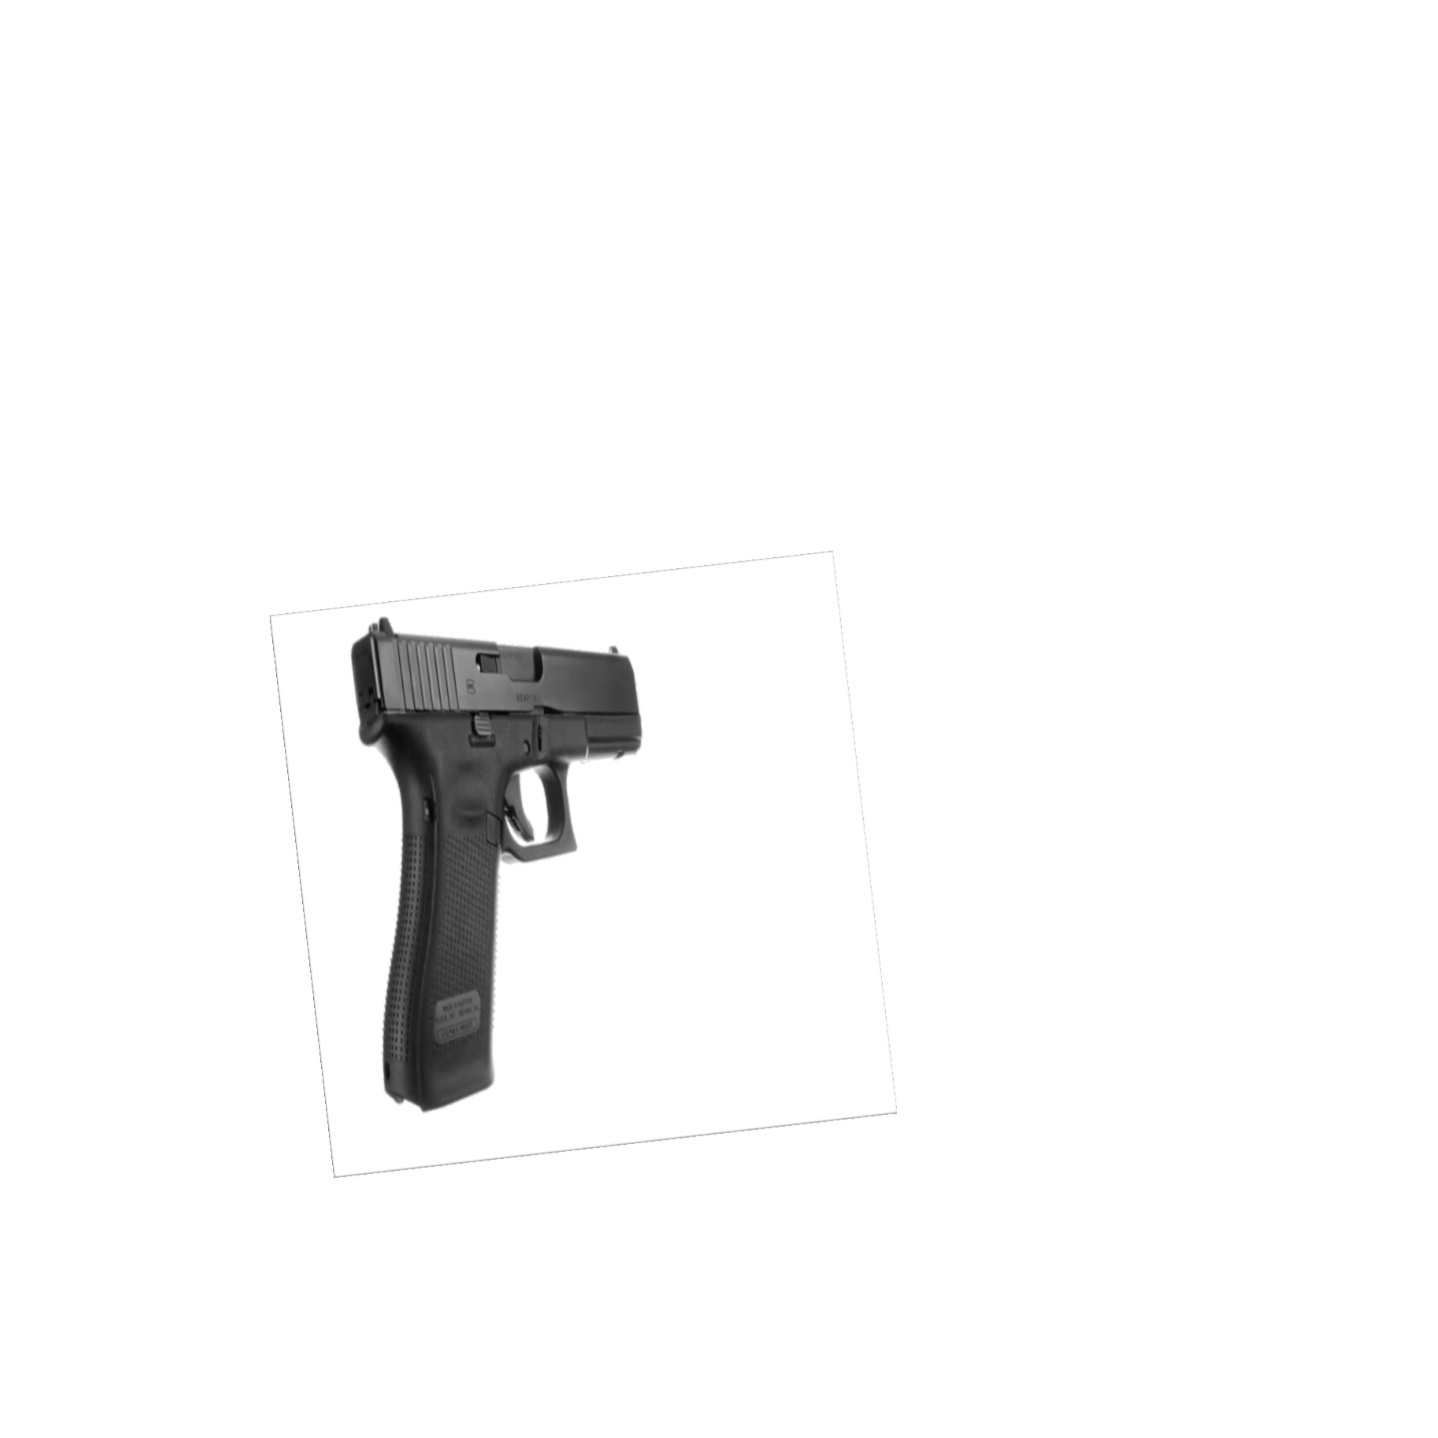gun: (328, 610, 647, 1119)
